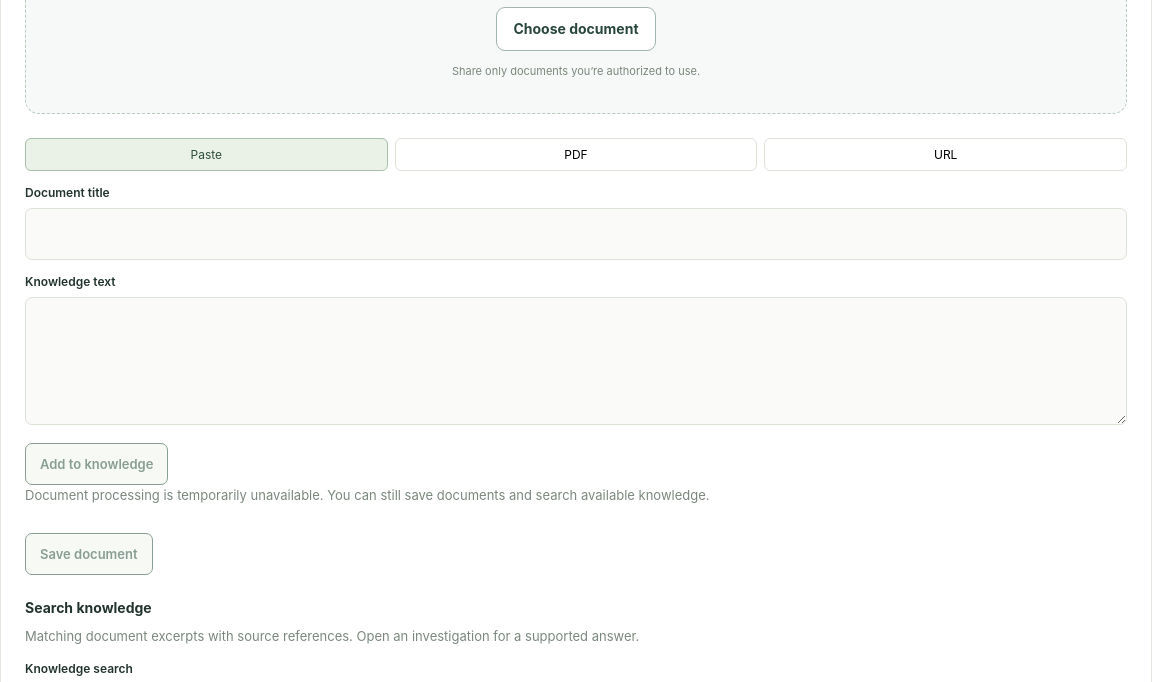
Test: keeps local saving usable and explains disabled indexing
(page scrolled)
Type "Fictional VPN guidance" into the text box labelled "Knowledge text" at (576, 361), box left=25, top=297, right=1127, bottom=425
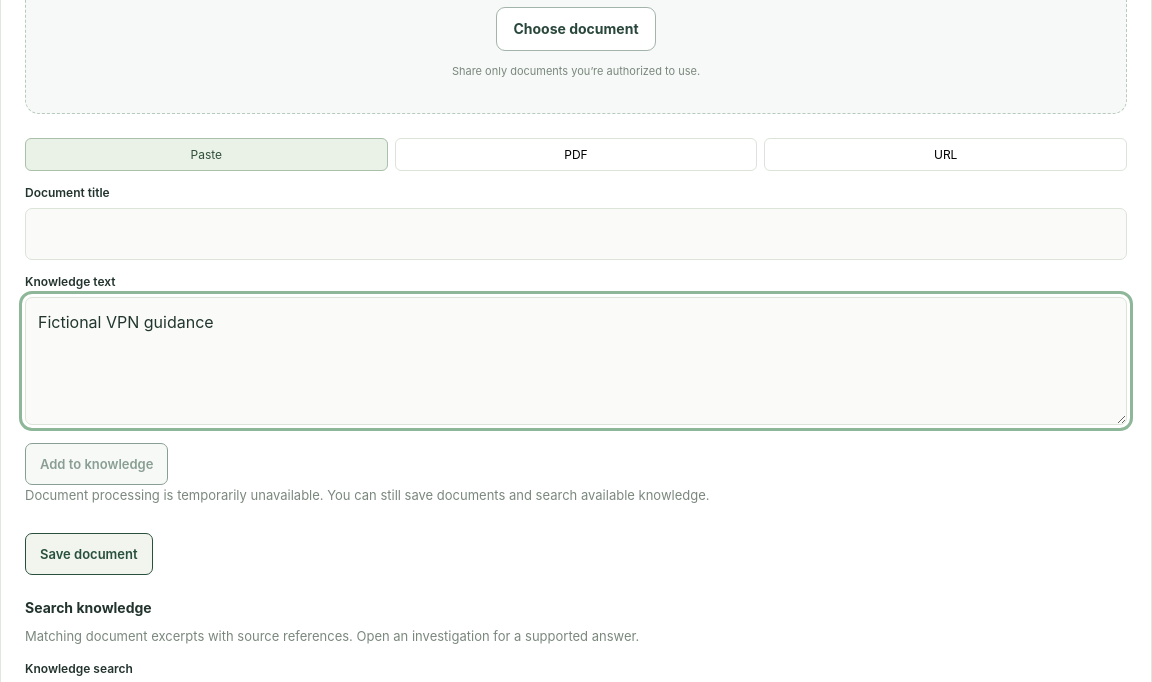
Expected: the button "Add to knowledge" is disabled, left=25, top=443, right=168, bottom=485
Expected: the text "Document processing is temporarily unavailable" is shown, left=25, top=487, right=710, bottom=503
Click the button "Save document" at (89, 554), box left=25, top=533, right=153, bottom=575
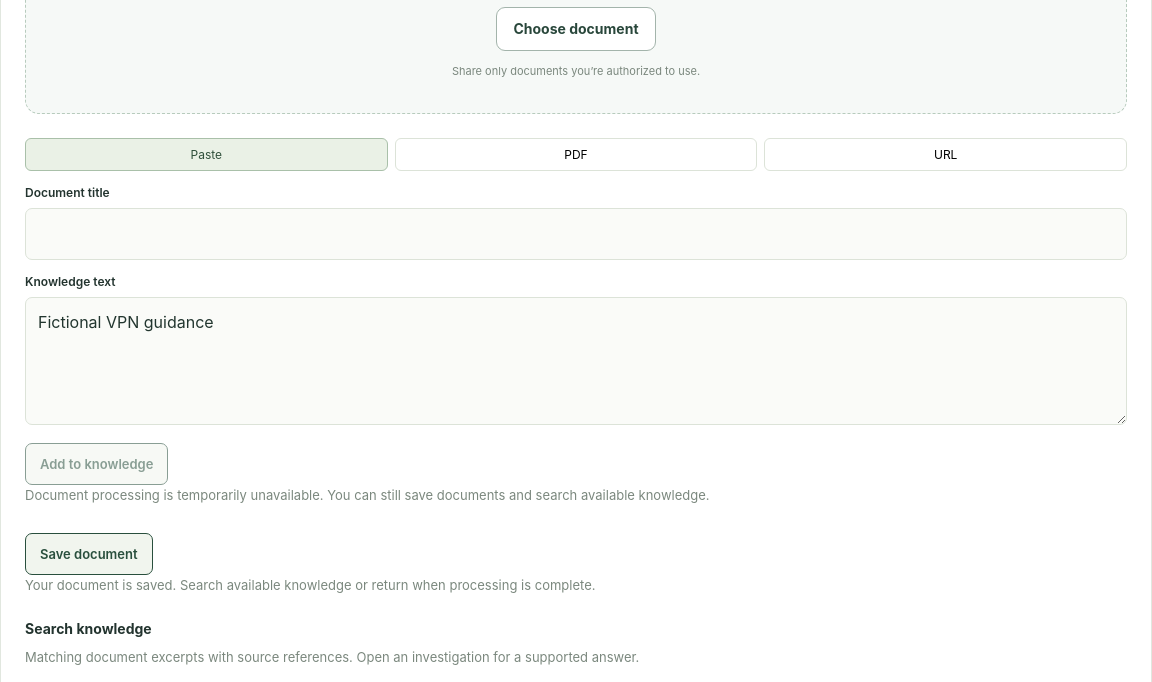
Expected: the text "Your document is saved" is shown, left=25, top=577, right=596, bottom=593
